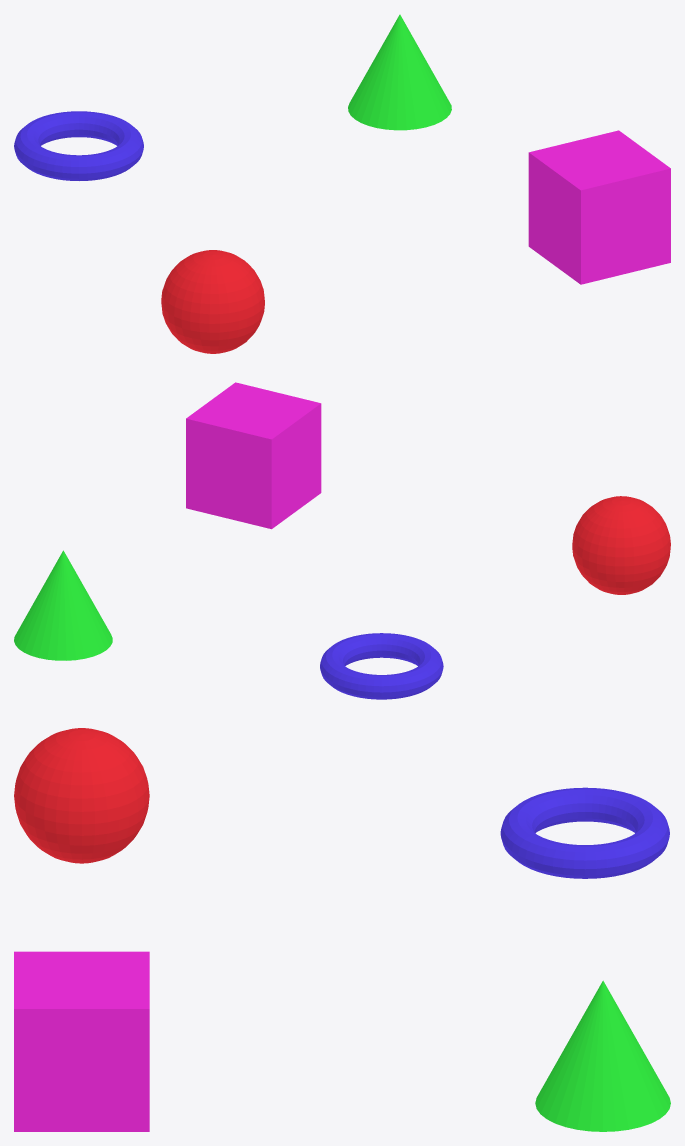
The model's file is simple_shapes.glb.
3 renders of one model, top to bottom at view 1: azimuth 30°, elevation 25°; view 2: azimuth 150°, elevation 25°; view 3: azimuth 270°, elevation 25°, orthographic. The views are drawn at different scales.
Parts seen in each view (by area): view 1: Cube, Sphere, Cone, Torus; view 2: Cube, Sphere, Cone, Torus; view 3: Cube, Sphere, Cone, Torus.
Boxes of the visible parts, left/top/right/bottom form: Cube: left=528, top=130, right=670, bottom=284; Sphere: left=161, top=250, right=264, bottom=353; Cone: left=348, top=14, right=451, bottom=130; Torus: left=14, top=111, right=143, bottom=180; Cube: left=186, top=382, right=321, bottom=529; Sphere: left=572, top=496, right=670, bottom=594; Cone: left=14, top=550, right=112, bottom=660; Torus: left=320, top=633, right=443, bottom=699; Cube: left=14, top=951, right=149, bottom=1131; Sphere: left=14, top=728, right=149, bottom=863; Cone: left=535, top=980, right=670, bottom=1131; Torus: left=500, top=787, right=669, bottom=878.
Size of the model in its own units: 10.58 by 2 by 9.68.
